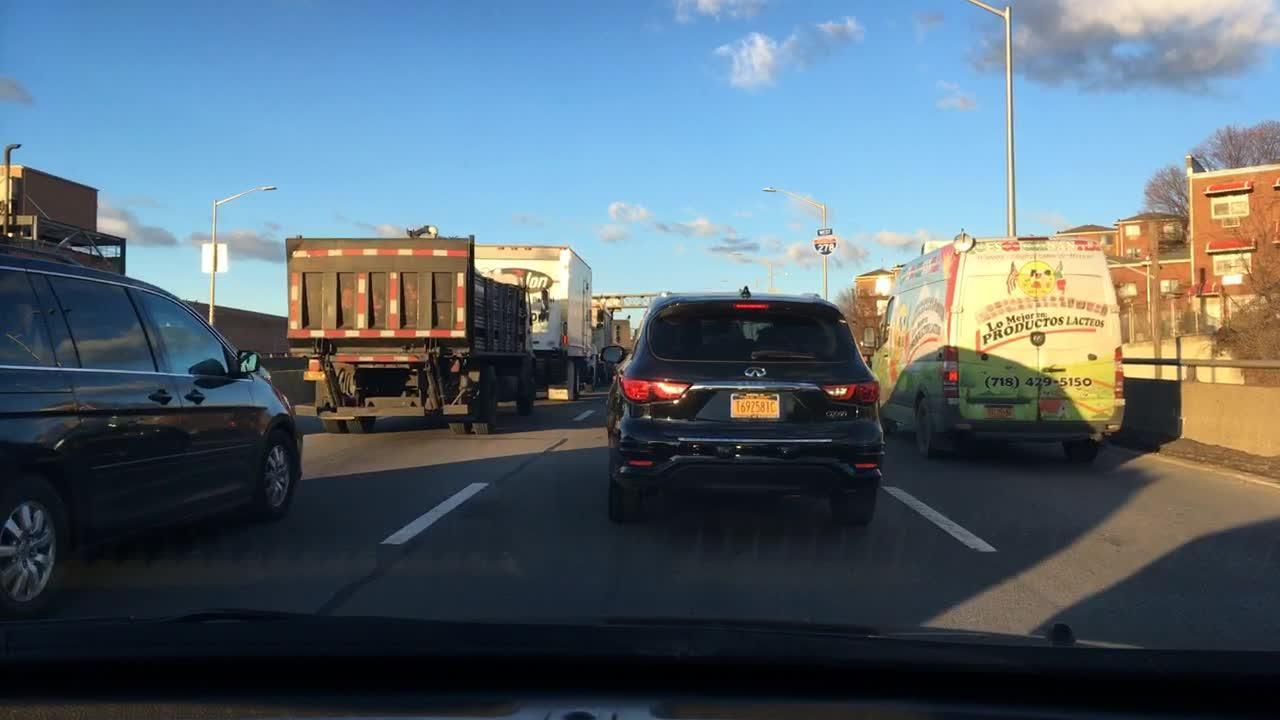Infiniti: (742, 362, 768, 382)
